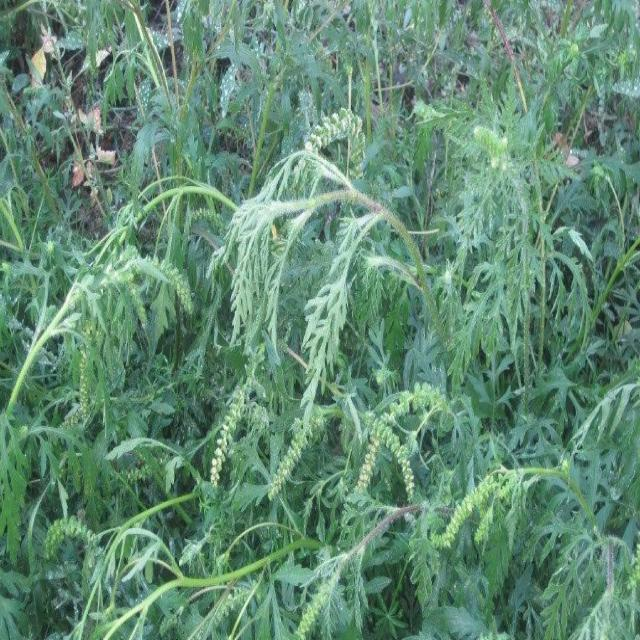ambrosia: (256, 66, 462, 348), (172, 340, 482, 524), (44, 493, 421, 640), (5, 201, 214, 444), (445, 394, 628, 593), (471, 63, 561, 308)
